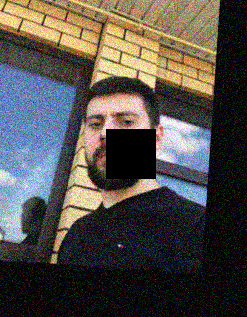without_mask: (82, 104, 150, 189)
